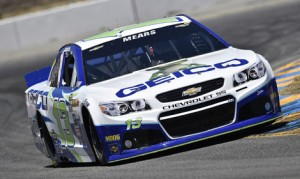Geico: (115, 58, 248, 97)
